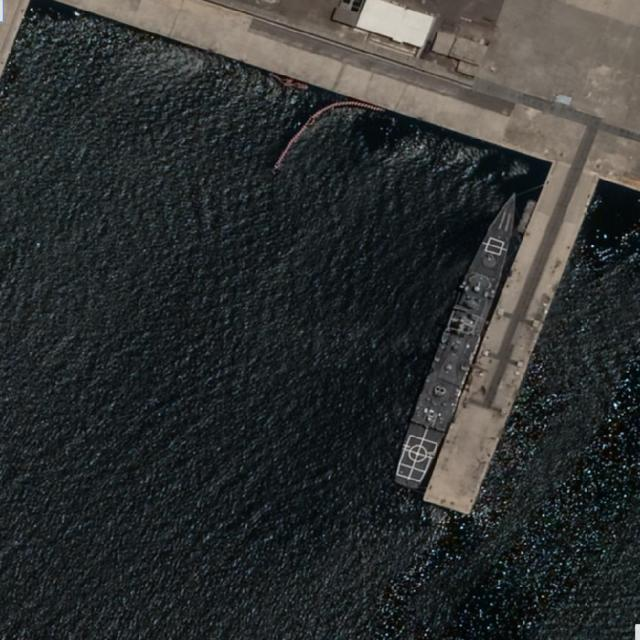Dock: (424, 156, 600, 517)
Frigate: (393, 188, 529, 492)
